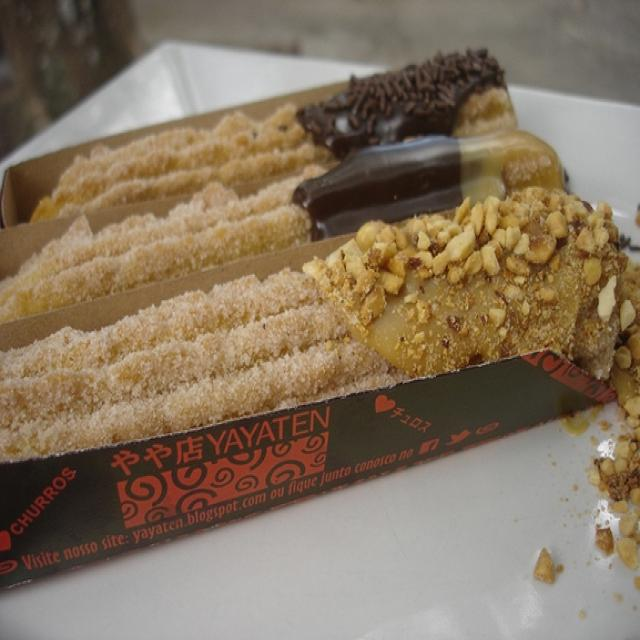炸货点心: (11, 47, 629, 599)
